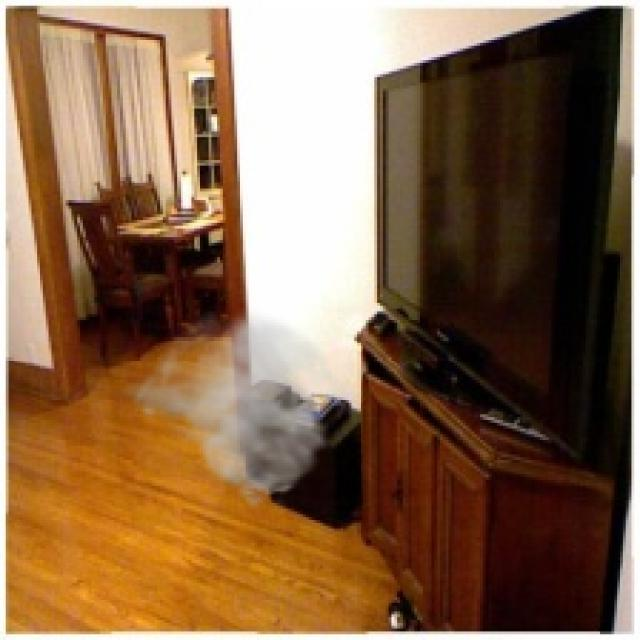smoke: (117, 306, 349, 511)
